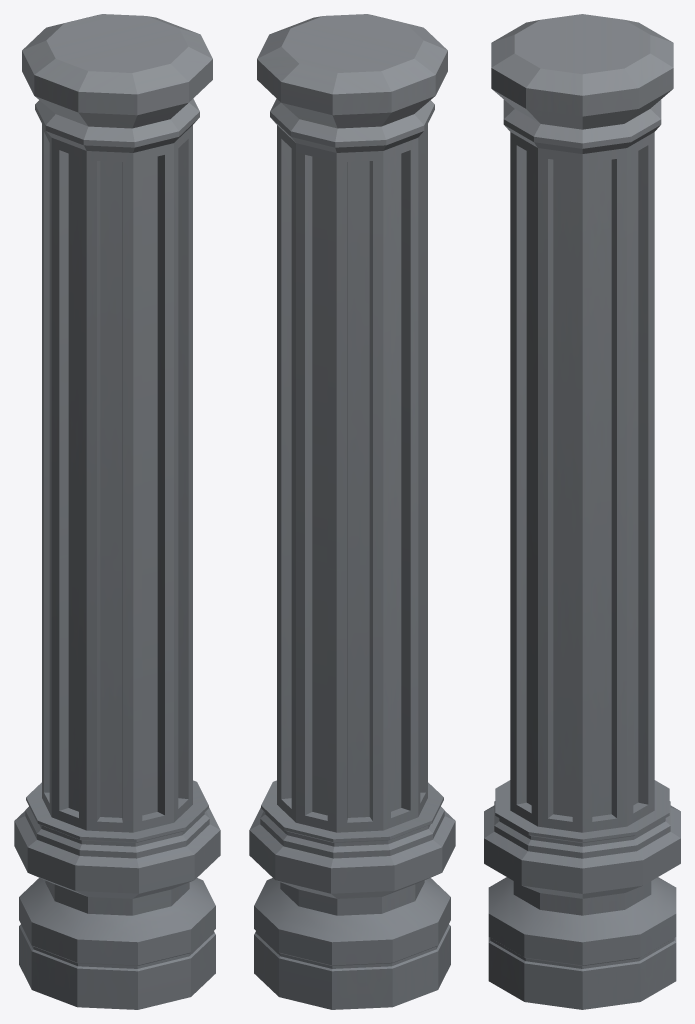
The model's file is monumentoAlto.fbx.
3 views of the same model, side by side, from view 1: azimuth 30°, elevation 25°; view 2: azimuth 150°, elevation 25°; view 3: azimuth 270°, elevation 25° (orthographic).
Parts seen in each view (by area): view 1: pCylinder841; view 2: pCylinder841; view 3: pCylinder841.
Part boxes in pixels (left/top/right/bottom): pCylinder841: left=14, top=14, right=220, bottom=1009; pCylinder841: left=249, top=14, right=455, bottom=1009; pCylinder841: left=484, top=14, right=680, bottom=1009.
Bounding box in the file's own units: 451 × 2223 × 429.
